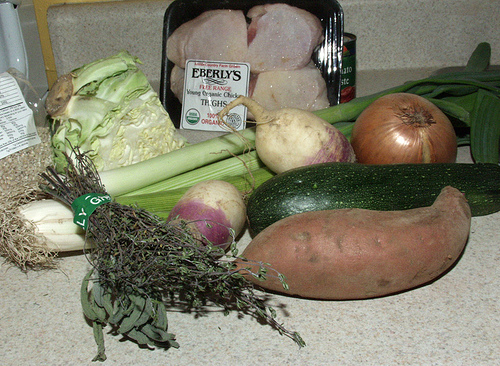turnip: (81, 174, 250, 365), (216, 181, 473, 305), (214, 95, 358, 176)
